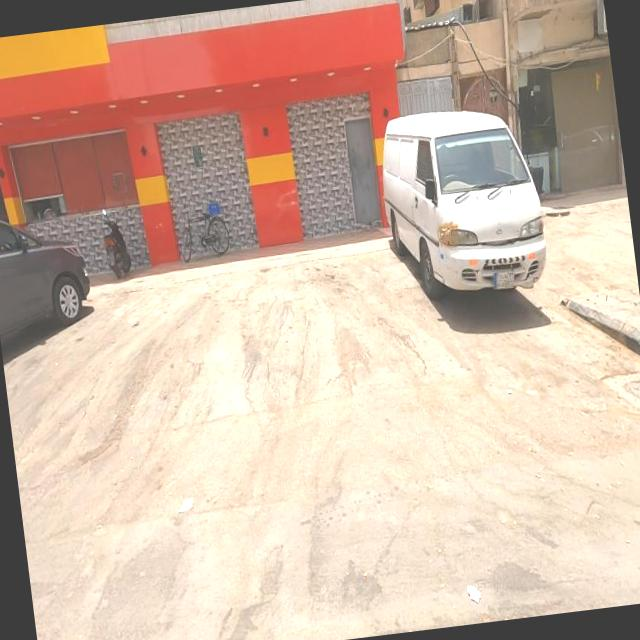debris: (146, 445, 228, 555), (439, 543, 508, 627)
